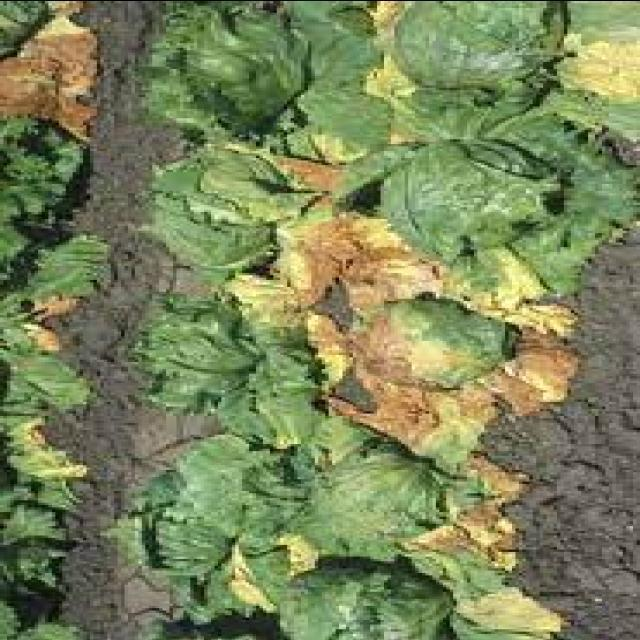Wilt_and_leaf_blight_on_lettuce: (370, 260, 544, 404), (231, 155, 329, 291)
